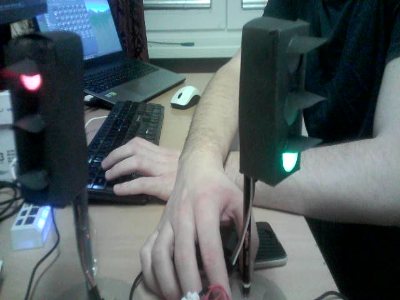trafficlight_green: (271, 27, 304, 177)
trafficlight_red: (10, 38, 55, 200)
